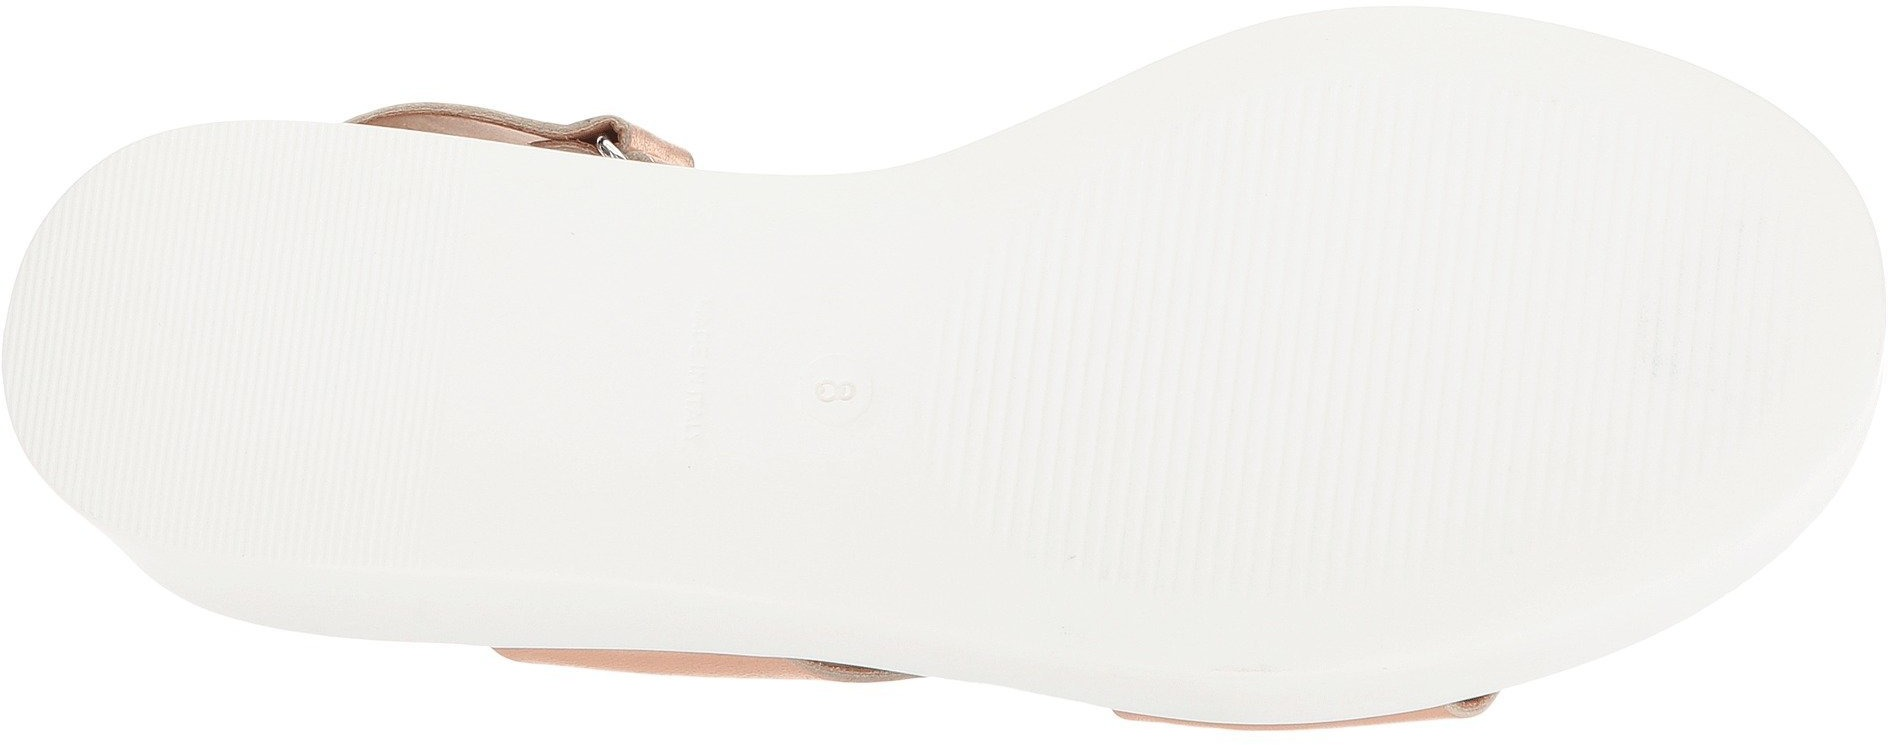circle: (789, 345, 884, 447)
line: (4, 122, 474, 573)
text: (667, 289, 722, 459)
